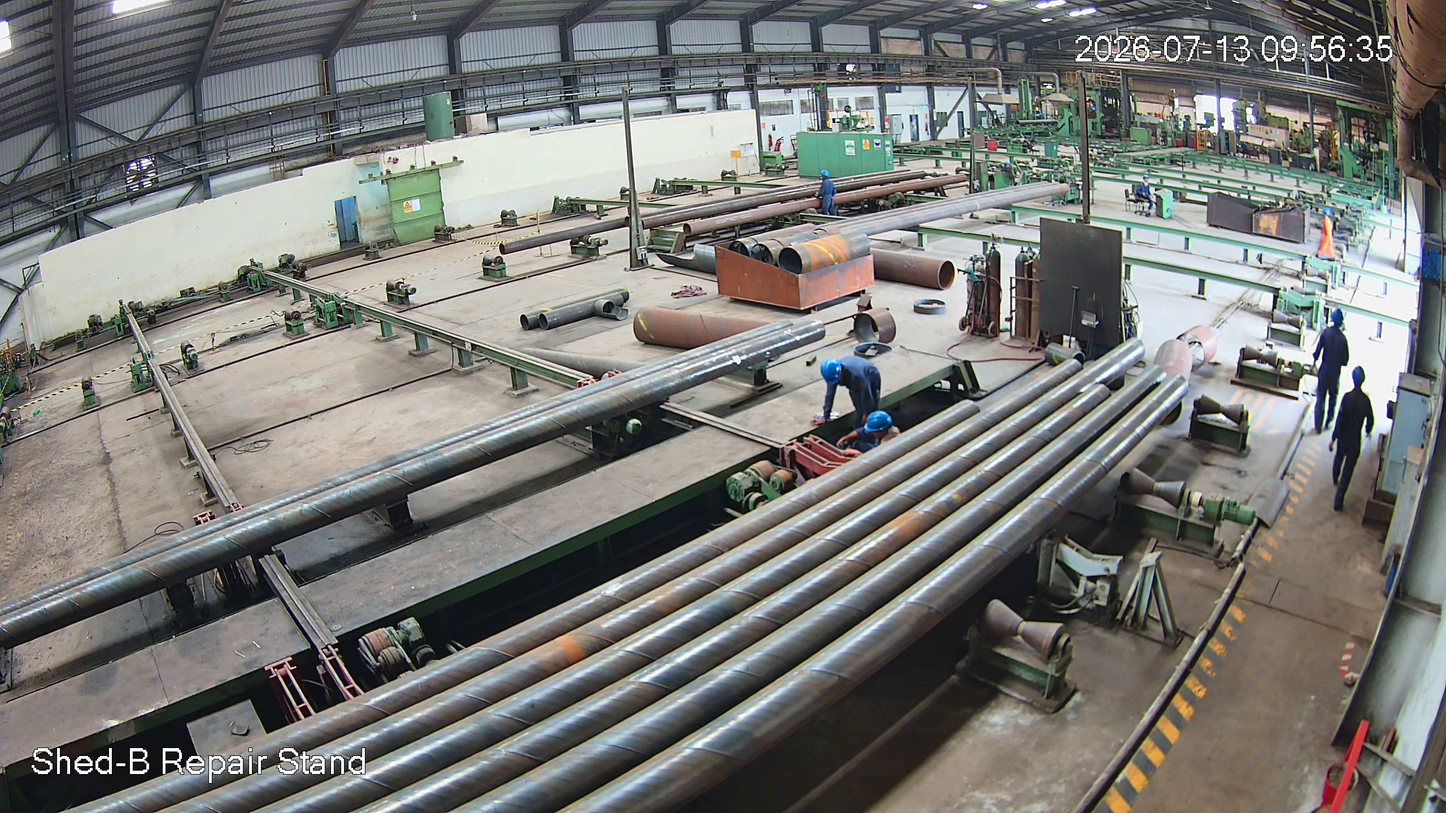Helmet: (856, 410, 895, 439), (1345, 359, 1370, 404), (817, 354, 845, 390), (1326, 306, 1351, 336), (819, 169, 830, 185)
Person: (1324, 364, 1379, 512), (1308, 307, 1347, 439), (812, 356, 895, 415), (833, 413, 907, 459), (817, 170, 836, 216)
